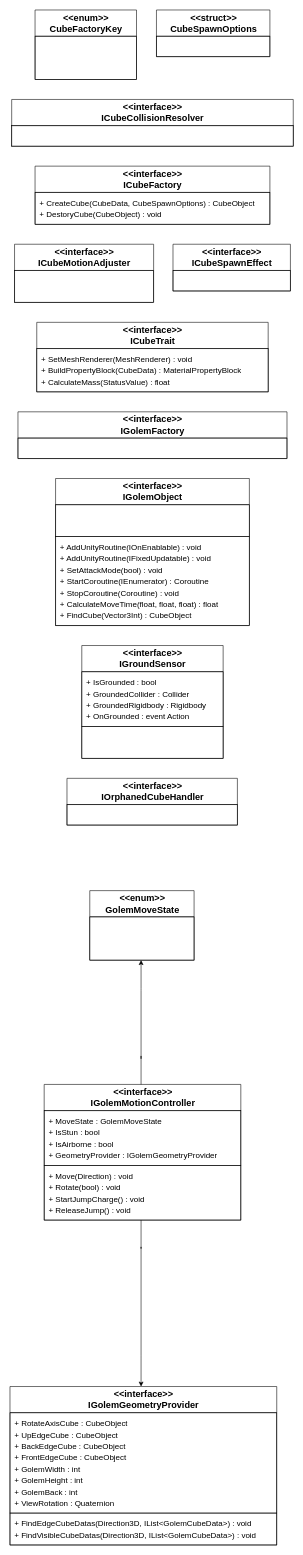
Some shapes in this 303 by 1555 pixel diagram are drawn without their labels. The shapes that lost their labels are listed below. From the top down, each one's centre as x and y in pixels, then its label:
At (x=85, y=58): "+ Object + Core + Obstacle".
At (x=213, y=46): "+ IsAnimating : bool".
At (x=152, y=135): "+ OnCollision(GameObject, ICubeMotionAdjuster, Collision, bool) : void".
At (x=84, y=286): "+ ApplyKnockback(Vector3) : void + NormalizePose() : void".
At (x=231, y=280): "+ Play(CubeObject) : void".
At (x=152, y=448): "+ CreateGolem(string, GolemData, CubeSpawnOptions) : GolemCore".
At (x=152, y=520): "+ Rigidbody : Rigidbody + StructureData : GolemStructureData".
At (x=152, y=742): "+ GetGroundDistance(float) : bool + NotifyAirborne() : void".
At (x=151, y=814): "+ HandleOrphanedCube(CubeObject) : void".
At (x=141, y=938): "+ Idle + Moving + Charging".
